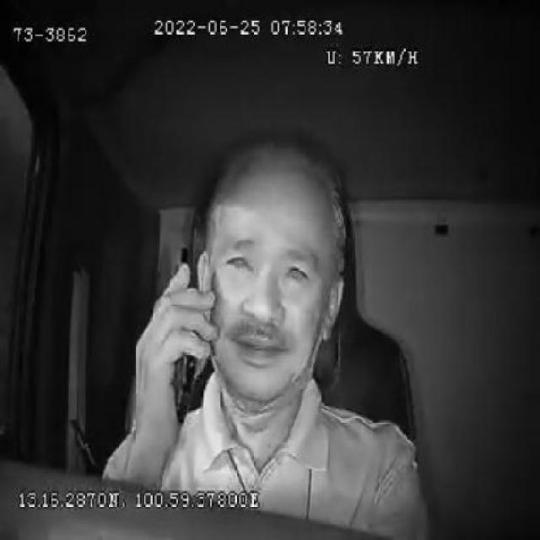phone: (168, 242, 202, 429)
